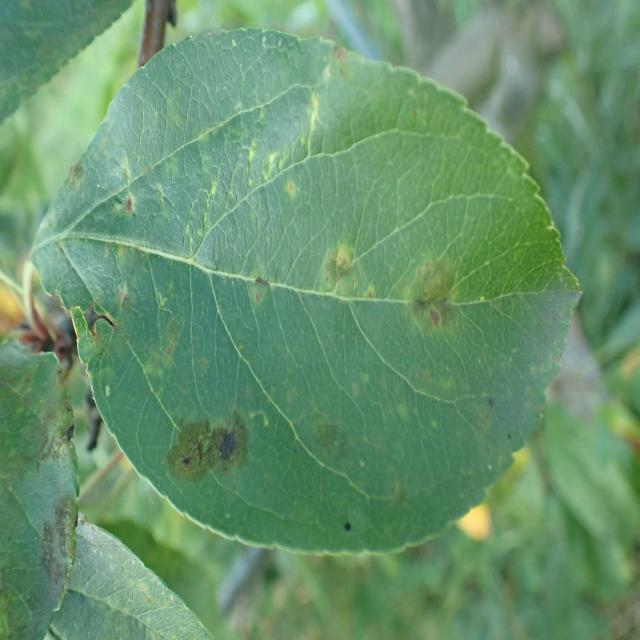scab: (27, 47, 560, 482)
